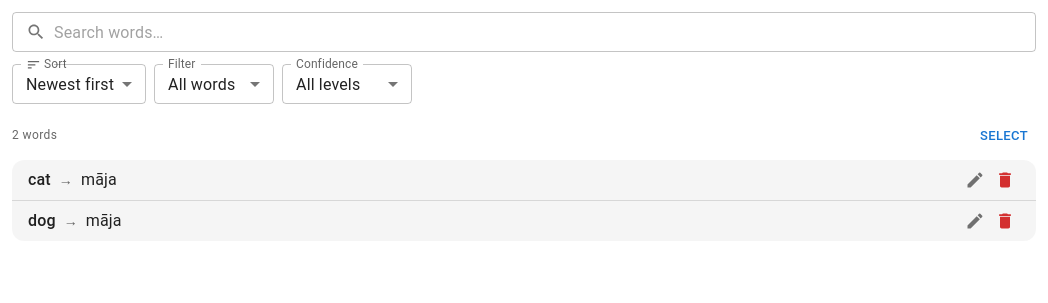
Scenario: WordList › should show select-all checkbox in selection mode
The image size is (1048, 303).
Click the button "Select" at (1004, 136), box [972,121,1036,151]
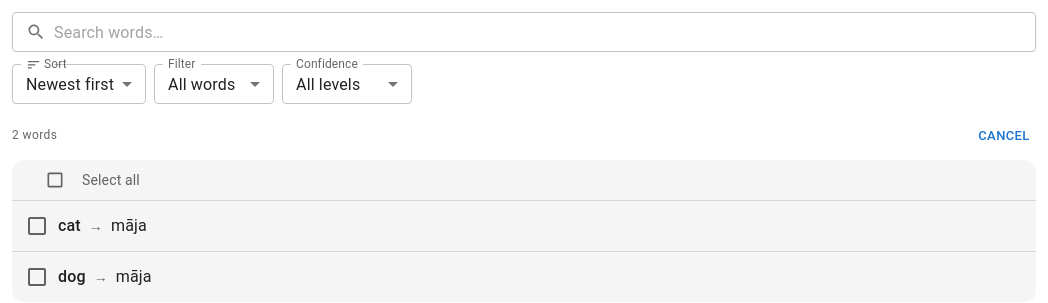
Expected: the checkbox named "Select all visible words" is shown, [45,170,65,190]
